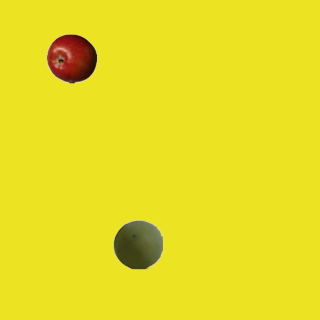Apple Braeburn: (46, 33, 96, 83)
Grape White 4: (112, 219, 162, 269)
